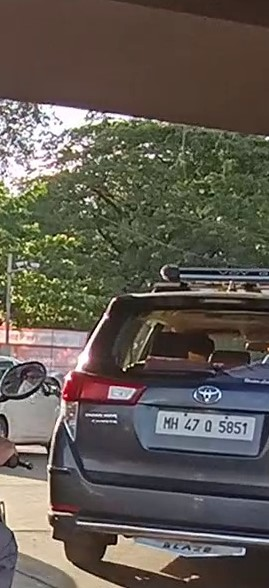MH4705851: (156, 409, 254, 442)
